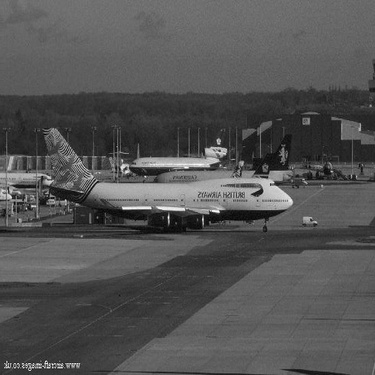airplane: (28, 118, 302, 242), (134, 133, 307, 196), (97, 118, 253, 179), (1, 156, 66, 200)
